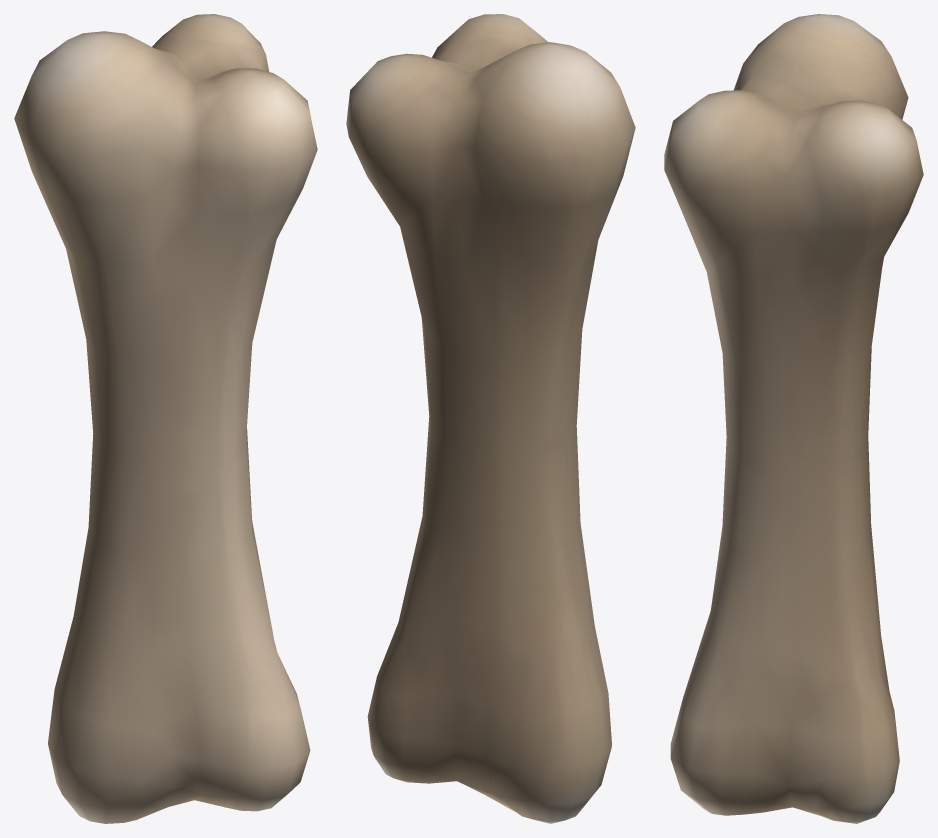
The model's file is DE_Bone_01.fbx.
3 renders of one model, left to right at view 1: azimuth 30°, elevation 25°; view 2: azimuth 150°, elevation 25°; view 3: azimuth 270°, elevation 25°, orthographic. The views are drawn at different scales.
Visible parts, largest first — view 1: DE_Bone_01; view 2: DE_Bone_01; view 3: DE_Bone_01.
Boxes of the visible parts, x1,y1,x2,y2 form: DE_Bone_01: (14, 14, 317, 823); DE_Bone_01: (346, 14, 635, 823); DE_Bone_01: (664, 14, 923, 823).
Bounding box in the file's own units: 0.5709 × 1.7 × 0.5168.
